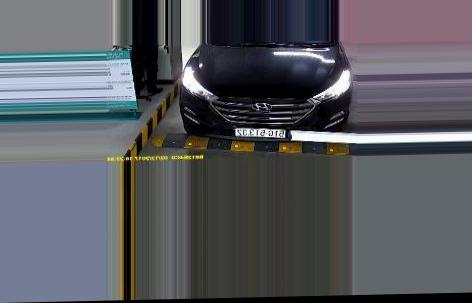License_Plate: (234, 125, 287, 140)
